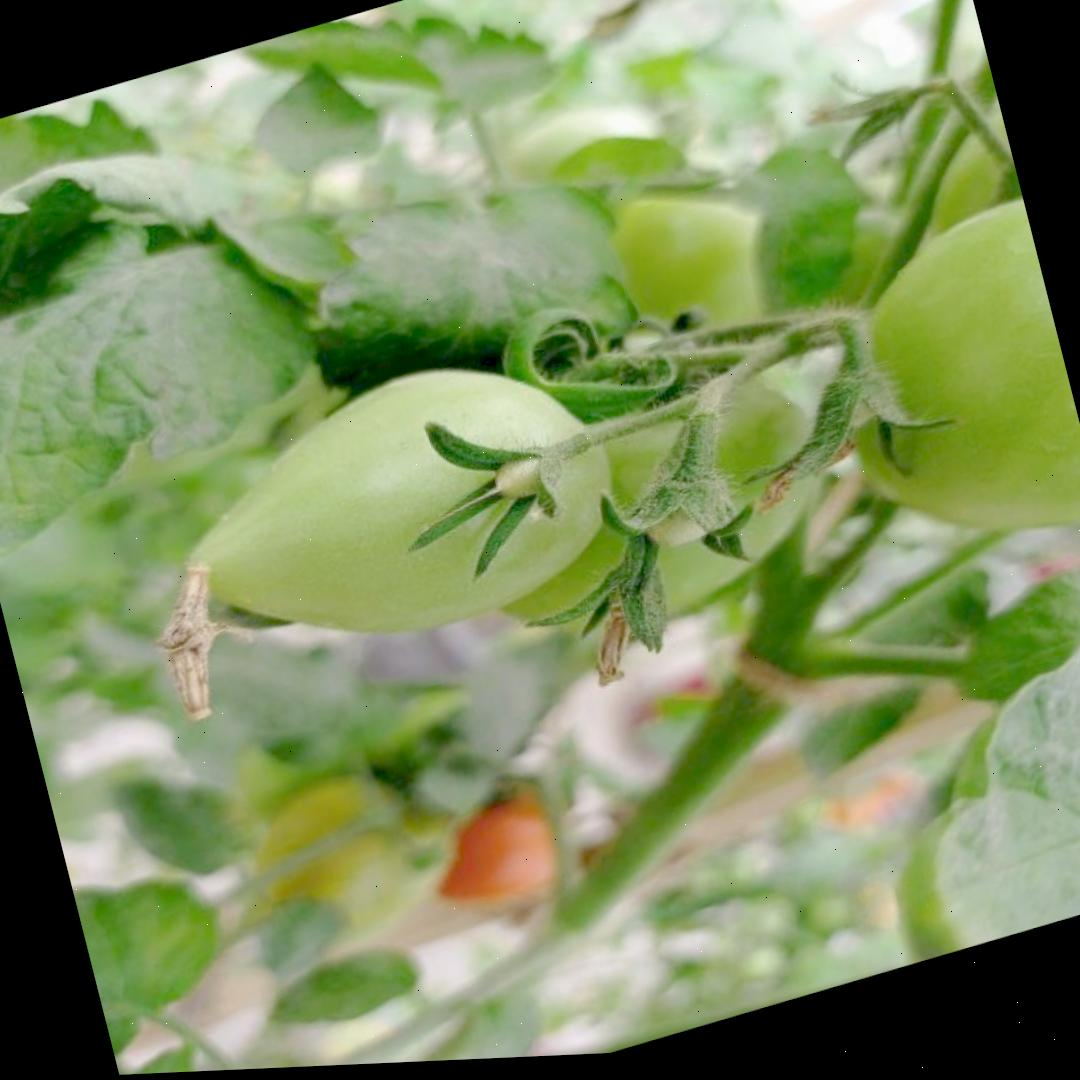mentah: (152, 318, 641, 704)
